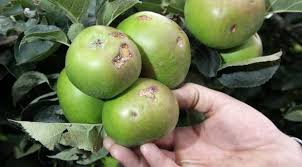apple: (183, 2, 267, 47)
damaged_apple: (115, 15, 192, 88), (63, 29, 142, 97), (101, 80, 179, 140)
